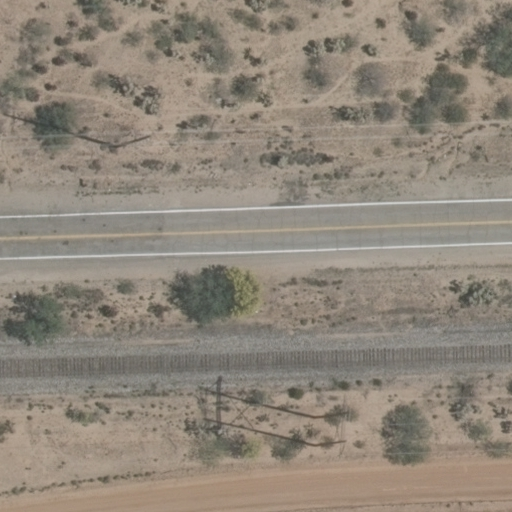DT: (103, 131, 156, 146)
TT: (313, 401, 356, 454)
